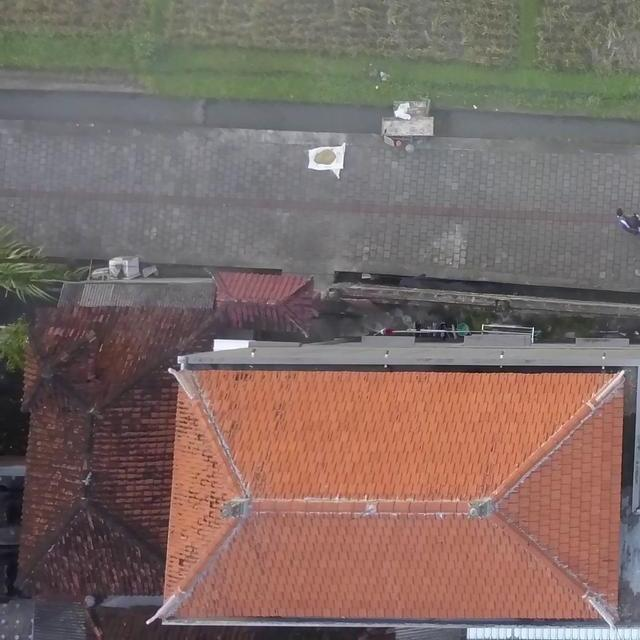Motorcycle: (616, 208, 640, 235)
